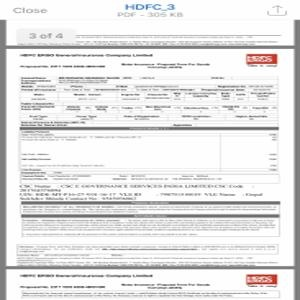image: (245, 52, 279, 66), (245, 274, 280, 285)
table: (19, 76, 278, 127), (17, 129, 280, 178)
text: (18, 183, 264, 201)
